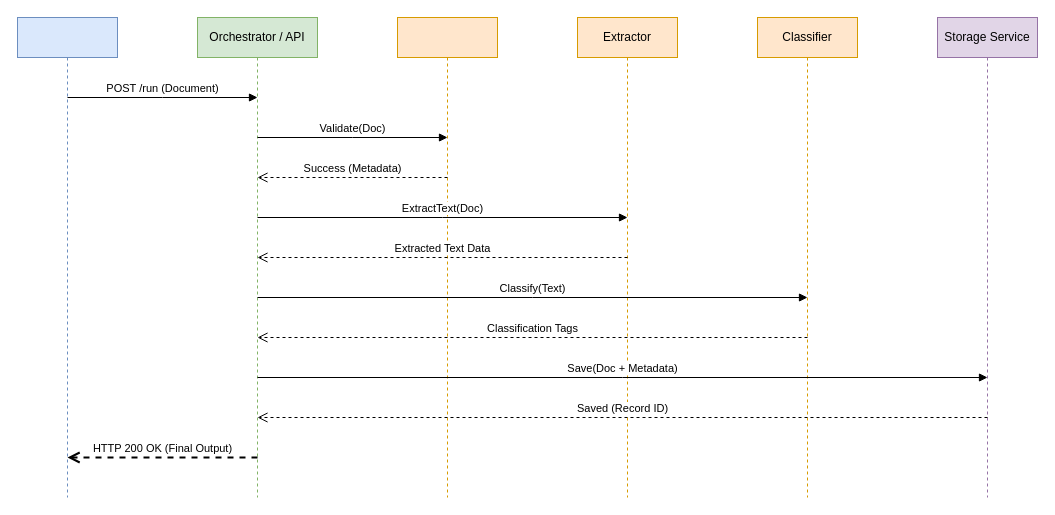
This 1055x515 diagram has some shape labels left out. Here are the shapes that lost their labels. From the top down, the box of each, then its label:
(16, 16, 118, 498): Client
(396, 16, 498, 498): Validator
